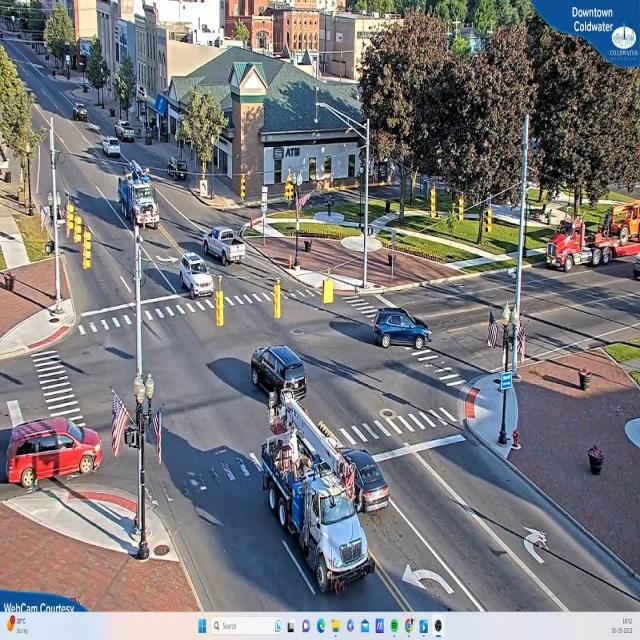car: (5, 418, 104, 490), (341, 440, 398, 508), (252, 345, 309, 398), (372, 308, 430, 350), (178, 252, 215, 299), (204, 230, 247, 267), (116, 124, 137, 143), (106, 137, 124, 157), (75, 106, 89, 122)
truck: (257, 430, 372, 596), (545, 200, 640, 274), (115, 171, 165, 237)
